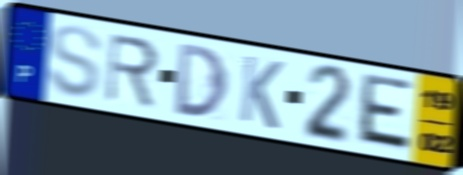2: (303, 61, 352, 147)
D: (174, 40, 231, 120)
E: (354, 70, 415, 156)
K: (236, 52, 286, 133)
R: (103, 32, 161, 111)
S: (45, 23, 105, 101)
